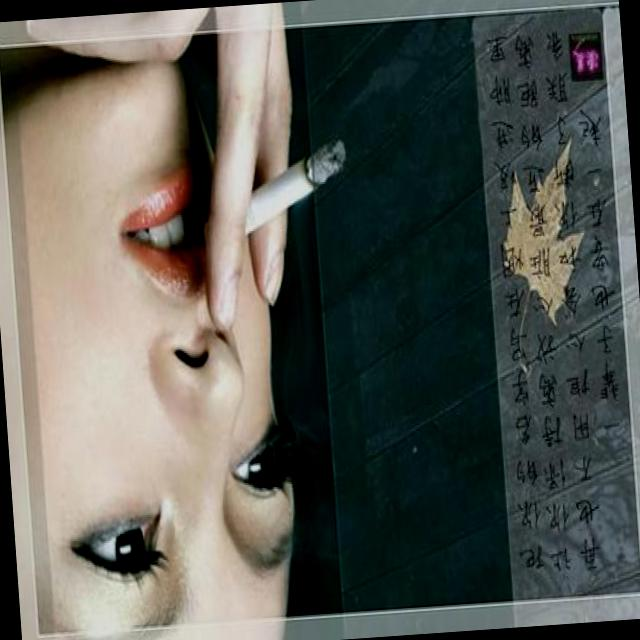smoke: (239, 138, 350, 235)
